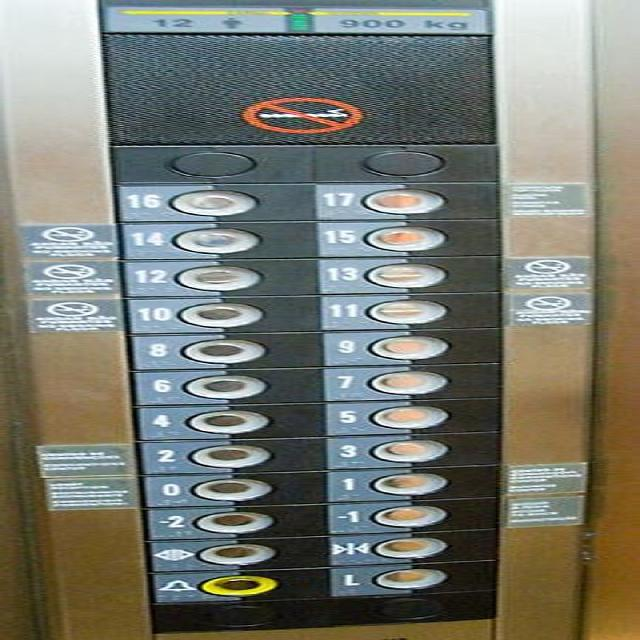-1: (320, 494, 513, 537)
-2: (129, 500, 340, 542)
0: (128, 468, 335, 509)
1: (319, 462, 508, 505)
10: (114, 292, 330, 336)
11: (313, 289, 508, 334)
12: (109, 256, 327, 299)
13: (308, 254, 509, 296)
14: (108, 220, 325, 262)
15: (309, 217, 508, 260)
16: (103, 182, 321, 224)
17: (308, 181, 508, 222)
2: (127, 435, 332, 477)
3: (314, 429, 510, 471)
4: (123, 399, 334, 444)
5: (314, 395, 514, 438)
6: (119, 364, 333, 409)
7: (313, 360, 511, 403)
8: (116, 329, 332, 372)
9: (314, 325, 510, 368)
L: (317, 557, 508, 598)
alarm: (136, 564, 335, 606)
close: (320, 527, 503, 568)
empty: (352, 148, 451, 178), (160, 150, 259, 179)
open: (132, 534, 339, 574)
